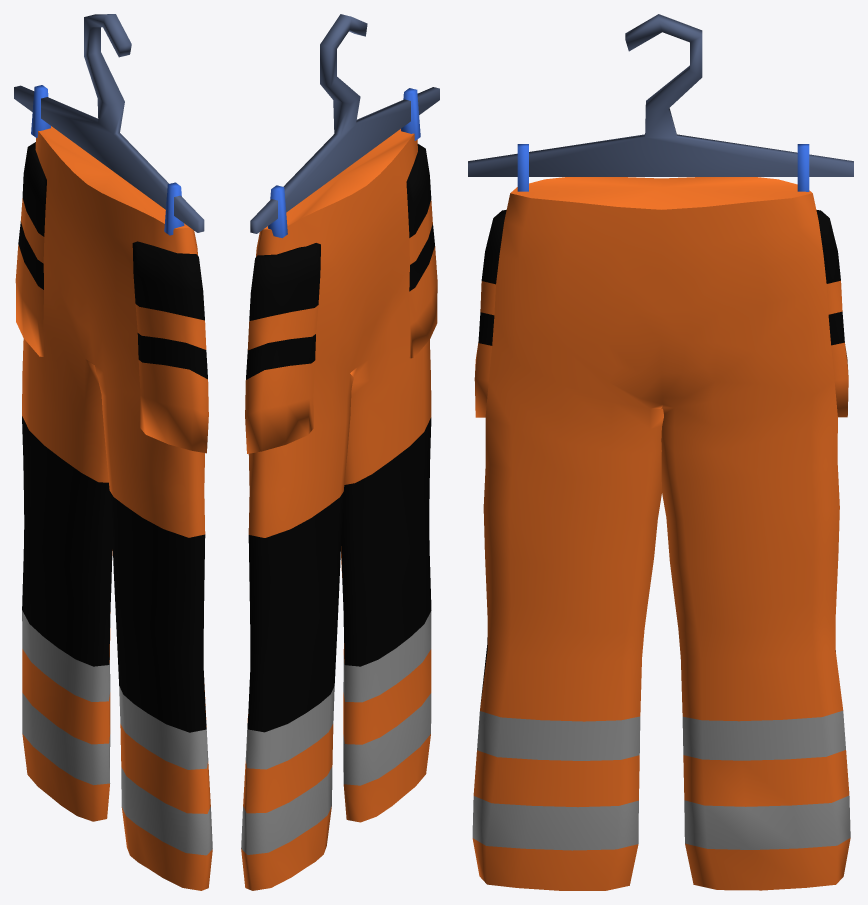
File: special_pants1.fbx
3 views of the same model, side by side, from view 1: azimuth 30°, elevation 25°; view 2: azimuth 150°, elevation 25°; view 3: azimuth 270°, elevation 25° (orthographic). The views are drawn at different scales.
Visible parts, largest first — view 1: pants1; view 2: pants1; view 3: pants1.
Boxes of the visible parts, x1,y1,x2,y2 form: pants1: (14, 14, 212, 890); pants1: (241, 14, 439, 890); pants1: (468, 14, 853, 890).
Bounding box in the file's own units: 0.1793 × 2.39 × 0.9653.
